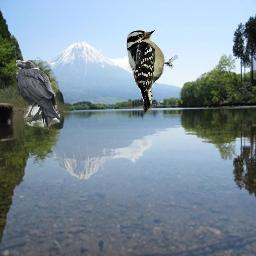Crow: (16, 60, 60, 130)
Woodpecker: (125, 28, 178, 114)
